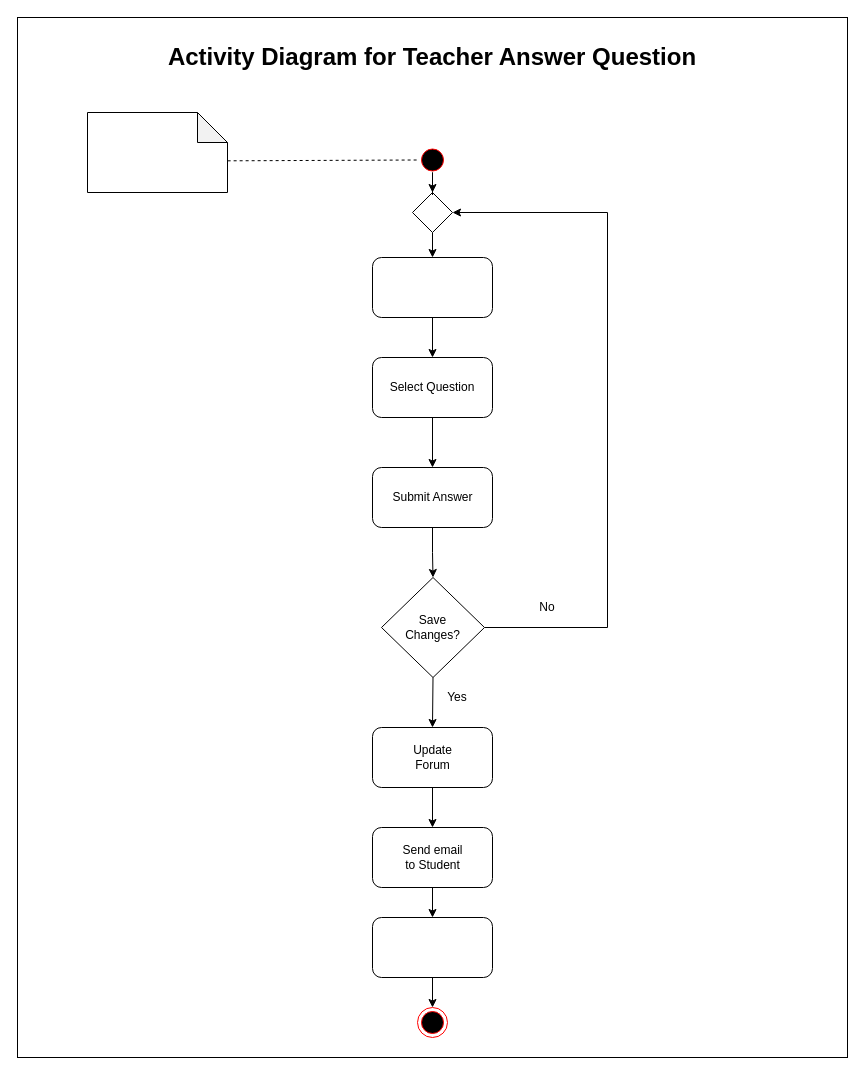
Image size: 865x1075. Some labels were removed from this diagram. Each missing label, with the centre of its shape:
"Display Updated Forum" goes at point 432,947.
"Teacher Logged in" goes at point 157,152.
"View Forum" goes at point 432,287.
